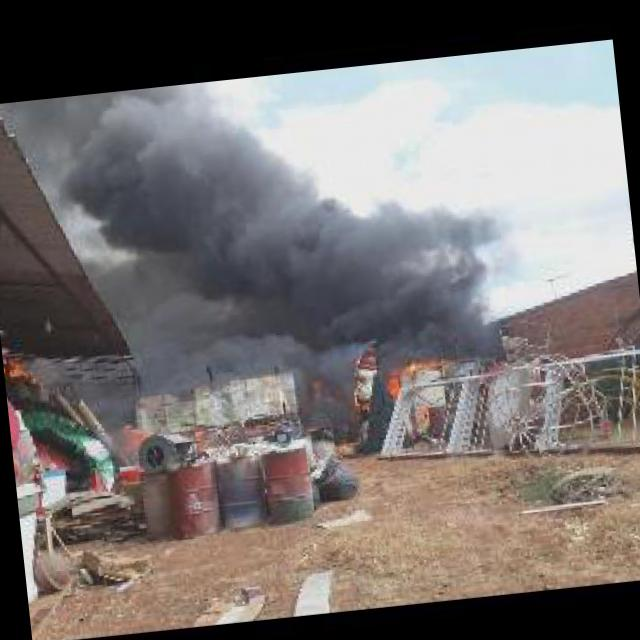fire: (2, 348, 36, 384), (407, 356, 451, 376), (120, 423, 150, 446), (387, 364, 406, 394), (334, 439, 358, 454), (412, 405, 429, 425)
smoke: (222, 100, 484, 370), (32, 76, 254, 277)
